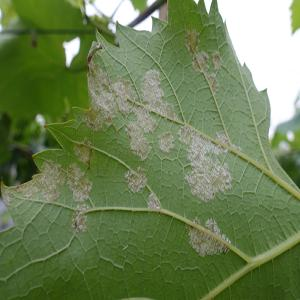Folha: (0, 0, 299, 298)
Fungo: (110, 68, 235, 258), (111, 68, 177, 160), (184, 130, 232, 202), (74, 48, 111, 132), (184, 28, 223, 95), (187, 215, 231, 257), (124, 165, 160, 209), (0, 170, 39, 209), (40, 159, 66, 202), (111, 75, 138, 115), (125, 120, 151, 160), (66, 162, 92, 202), (140, 68, 164, 108), (132, 104, 157, 134), (124, 165, 148, 193), (215, 129, 242, 152), (73, 137, 93, 168), (71, 202, 89, 234), (156, 100, 178, 122), (158, 131, 174, 153), (177, 123, 191, 146), (146, 191, 160, 210), (211, 50, 223, 72)
